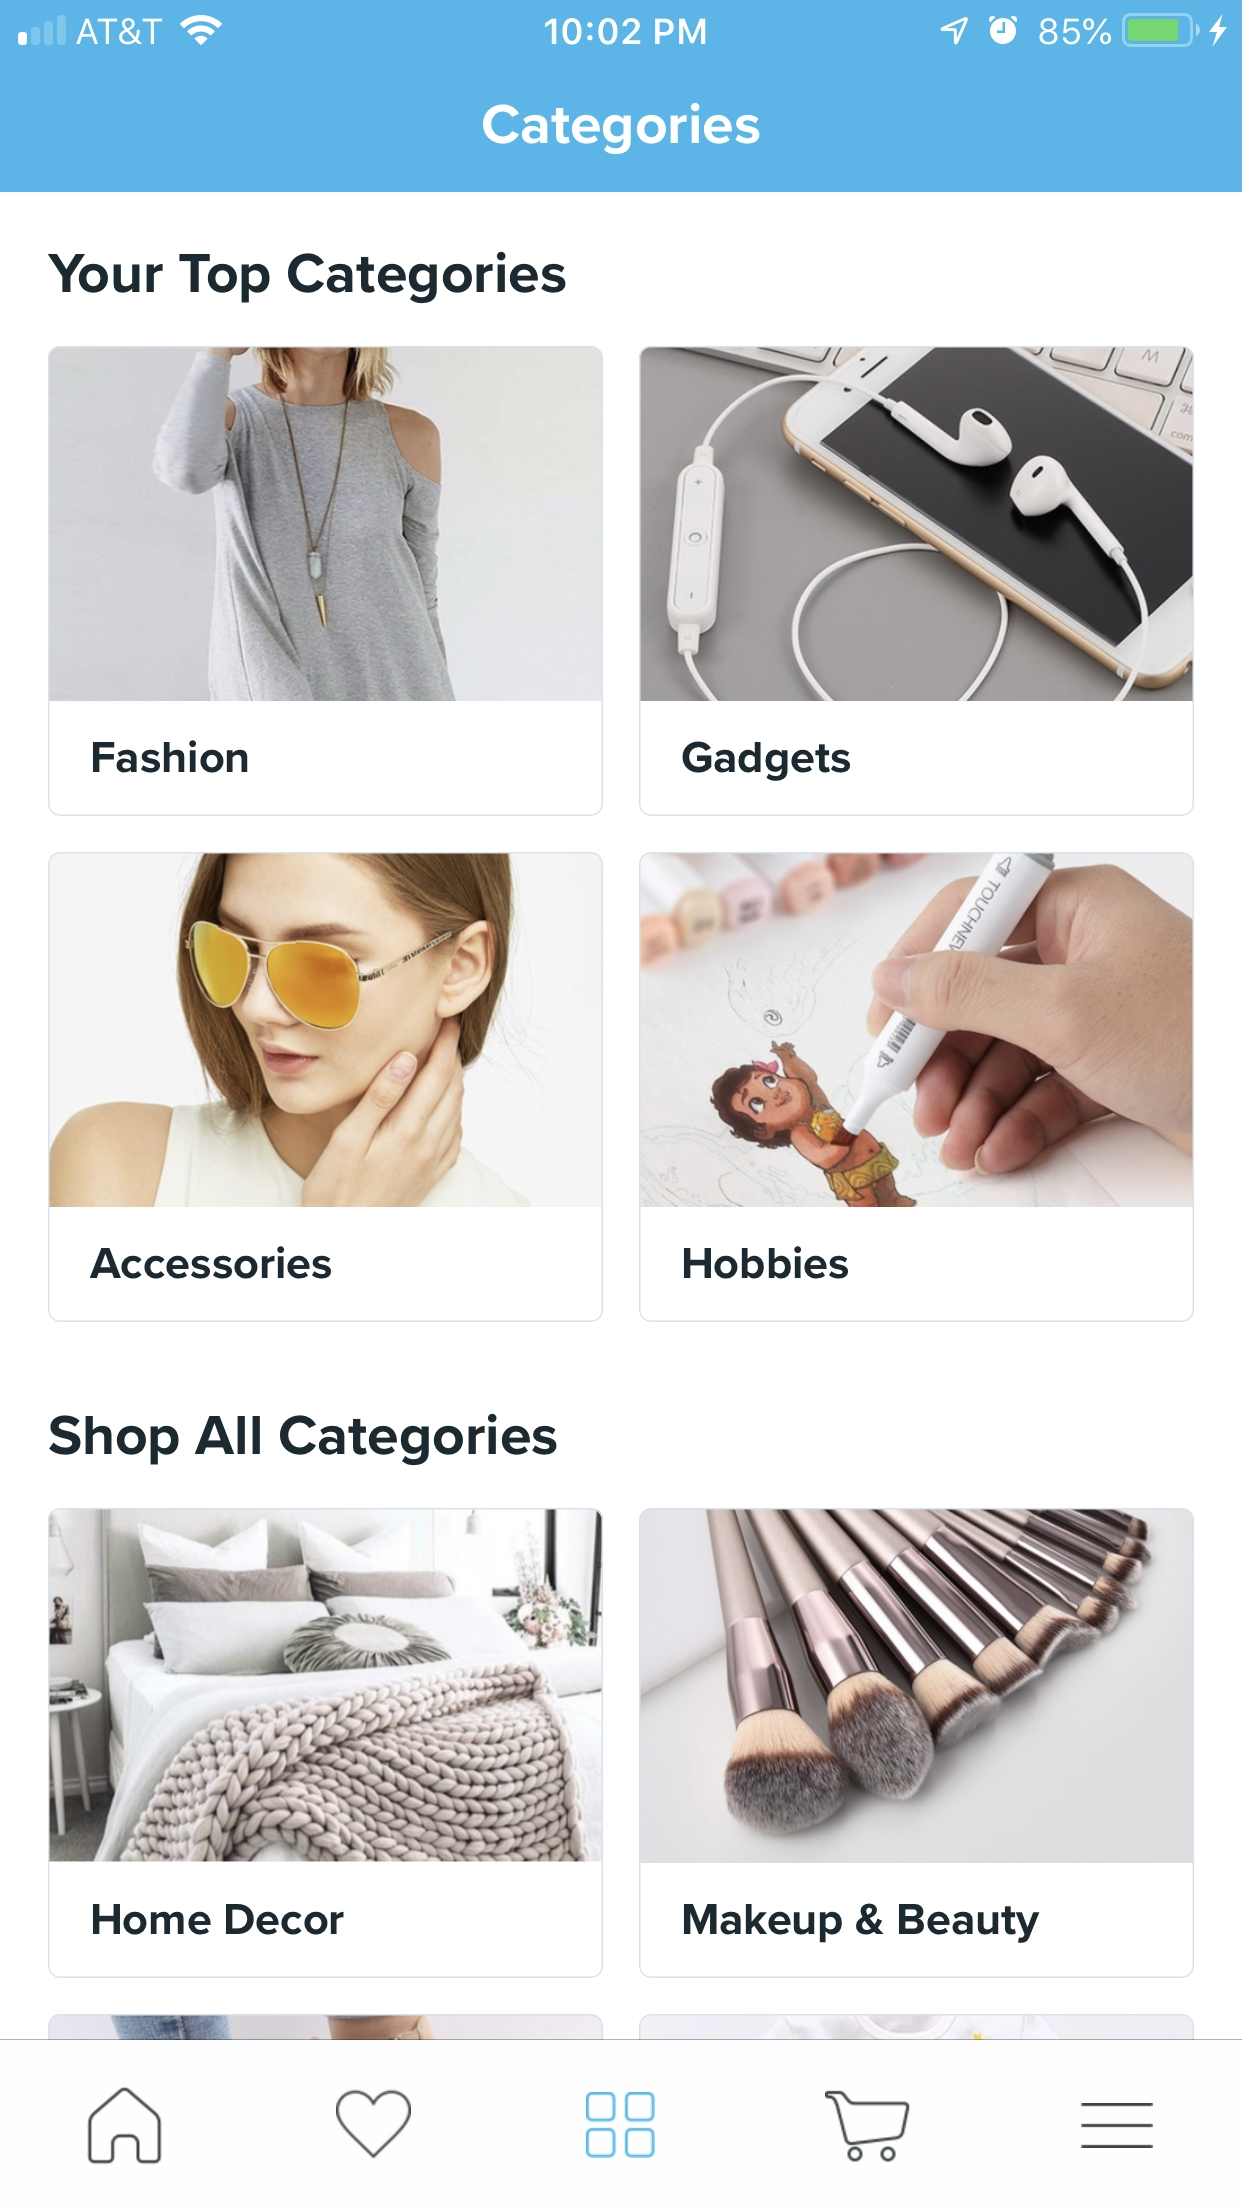Icon: (825, 2090, 910, 2163), (88, 2087, 162, 2166), (335, 2090, 412, 2159), (585, 2091, 657, 2159), (1081, 2099, 1159, 2152)
Image: (638, 852, 1193, 1209), (638, 346, 1193, 702), (49, 346, 604, 702), (638, 1509, 1193, 1864), (49, 1507, 604, 1862), (50, 855, 604, 1209), (49, 2012, 604, 2040), (638, 2014, 1193, 2040)
Text: (50, 1413, 558, 1466), (50, 253, 567, 305), (482, 103, 760, 158), (682, 1903, 1040, 1944), (93, 1903, 346, 1937), (91, 1247, 334, 1280), (682, 742, 851, 783), (684, 1245, 849, 1280), (94, 739, 249, 773)
UpperTaskBar: (2, 2, 1242, 49)
